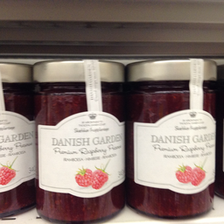jam: (34, 59, 128, 224), (127, 58, 218, 220), (1, 61, 37, 220)
